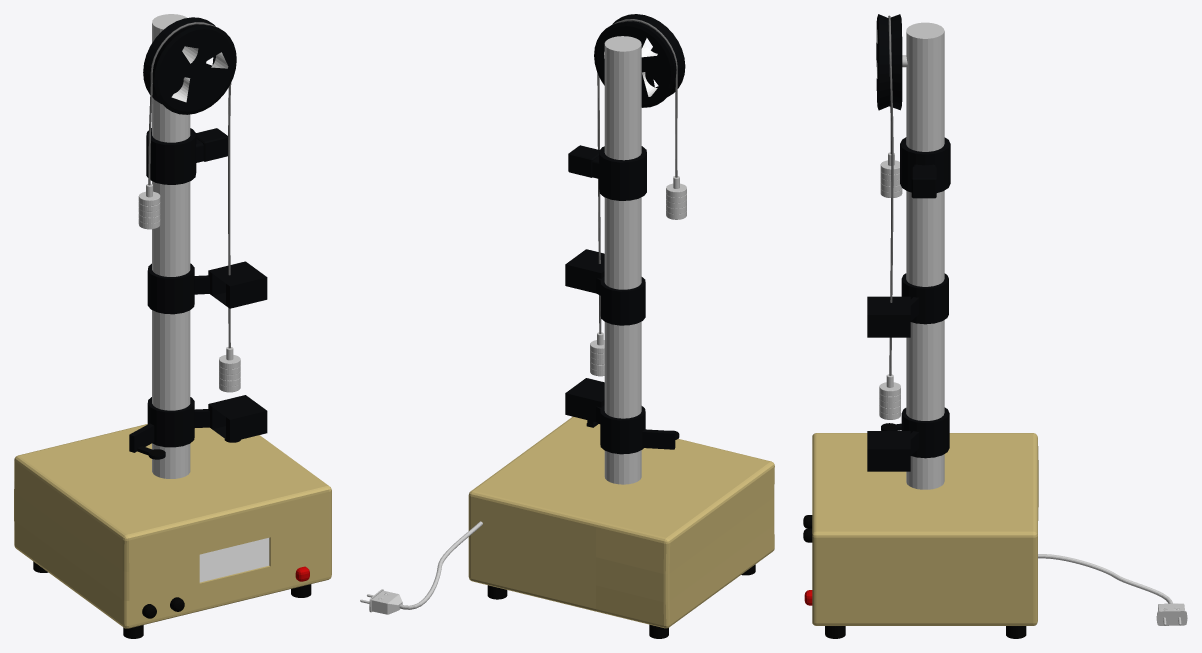
The model's file is lab_2  відредагований2.0.fbx.
3 renders of one model, left to right at view 1: azimuth 30°, elevation 25°; view 2: azimuth 150°, elevation 25°; view 3: azimuth 270°, elevation 25°, orthographic. The views are drawn at different scales.
Visible parts, largest first — view 1: Ð¦Ð¸Ð»ÑÐ½Ð´Ñ (×8); view 2: Ð¦Ð¸Ð»ÑÐ½Ð´Ñ (×6); view 3: Ð¦Ð¸Ð»ÑÐ½Ð´Ñ (×6).
Part boxes in pixels (box(x1,y1,x2,y2)): Ð¦Ð¸Ð»ÑÐ½Ð´Ñ (×8): box(14, 14, 331, 638); Ð¦Ð¸Ð»ÑÐ½Ð´Ñ (×6): box(369, 14, 774, 628); Ð¦Ð¸Ð»ÑÐ½Ð´Ñ (×6): box(812, 14, 1187, 625).
Bounding box in the file's own units: 0.4577 × 1.01 × 0.609.
